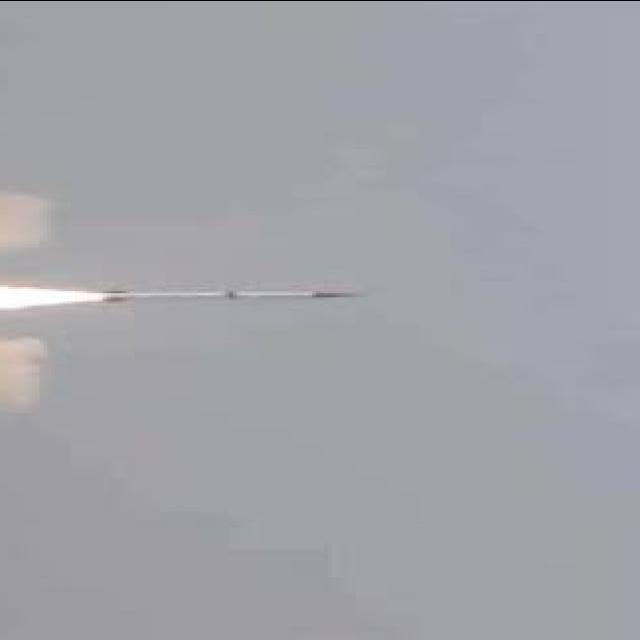missile: (104, 285, 365, 303)
